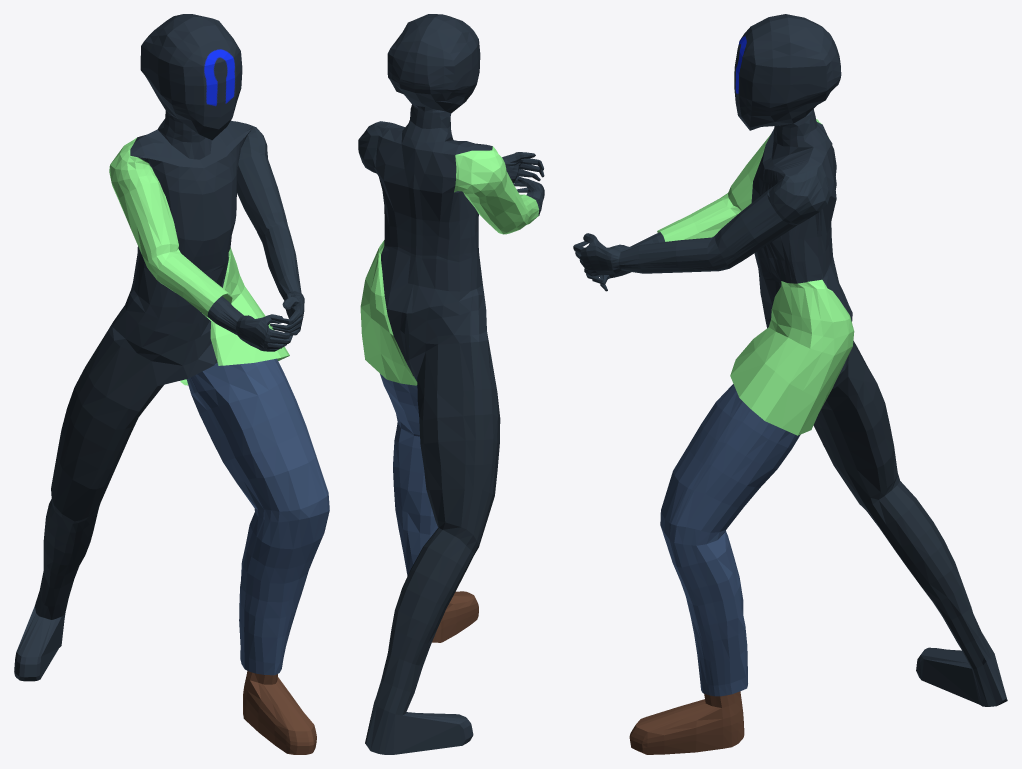
The model's file is Mar_Recover_000035.obj.
3 renders of one model, left to right at view 1: azimuth 30°, elevation 25°; view 2: azimuth 150°, elevation 25°; view 3: azimuth 270°, elevation 25°, orthographic. The views are drawn at different scales.
Visible parts, largest first — view 1: Cube.000_Cube.001; view 2: Cube.000_Cube.001; view 3: Cube.000_Cube.001.
Part boxes in pixels (bbox=[...]): Cube.000_Cube.001: bbox=[14, 14, 329, 754]; Cube.000_Cube.001: bbox=[358, 14, 544, 754]; Cube.000_Cube.001: bbox=[573, 14, 1007, 754].
Bounding box in the file's own units: 1.09 × 3.74 × 2.07.
